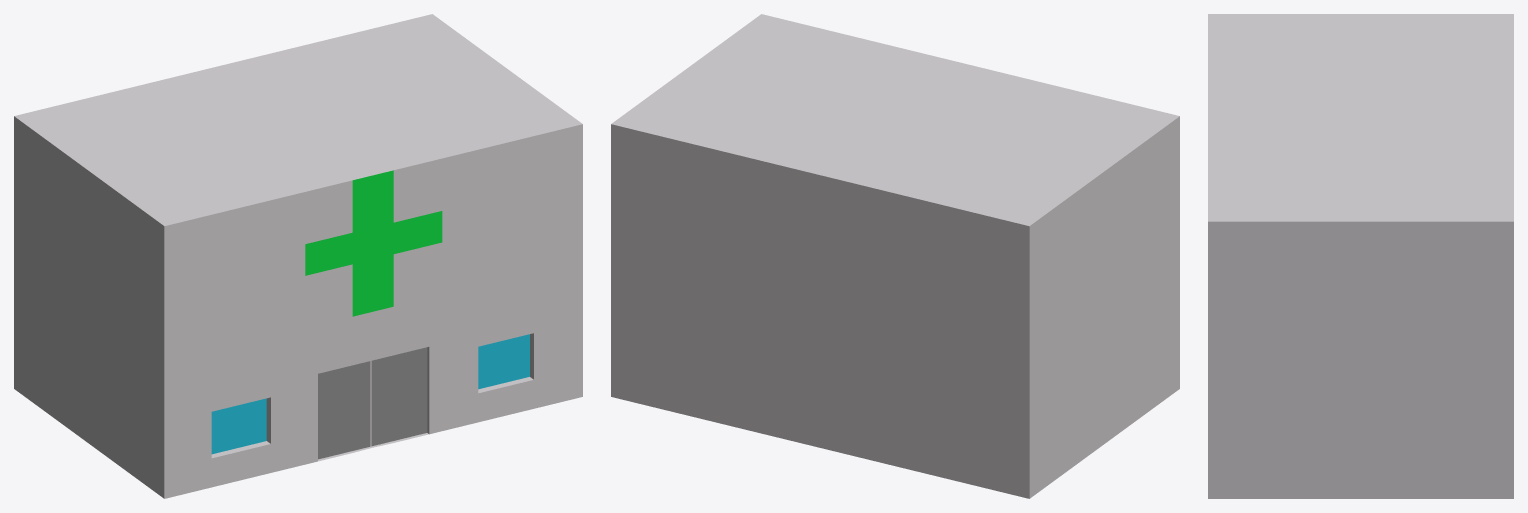
The model's file is hospital.fbx.
3 views of the same model, side by side, from view 1: azimuth 30°, elevation 25°; view 2: azimuth 150°, elevation 25°; view 3: azimuth 270°, elevation 25° (orthographic).
Parts seen in each view (by area): view 1: hospital; view 2: hospital; view 3: hospital.
Boxes of the visible parts, x1,y1,x2,y2 form: hospital: (14, 14, 582, 498); hospital: (611, 14, 1179, 498); hospital: (1208, 14, 1513, 498).
Bounding box in the file's own units: 321 × 200 × 200.
